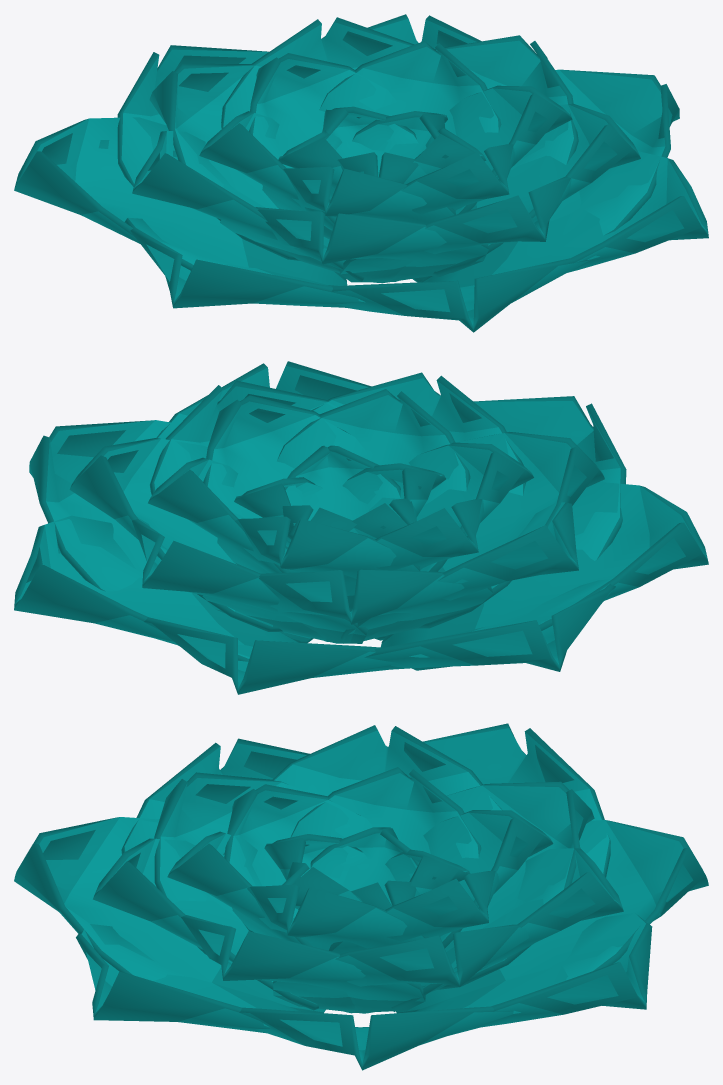
File: garden-rose-bloom-head-0-069494.glb
The picture shows the model from 3 angles, top to bottom: view 1: azimuth 30°, elevation 25°; view 2: azimuth 150°, elevation 25°; view 3: azimuth 270°, elevation 25°; orthographic projection. The views are drawn at different scales.
Parts seen in each view (by area): view 1: rose-bloom-head-0-069494; view 2: rose-bloom-head-0-069494; view 3: rose-bloom-head-0-069494.
Part boxes in pixels (x1,y1,x2,y2): rose-bloom-head-0-069494: [14, 14, 708, 332]; rose-bloom-head-0-069494: [14, 361, 708, 694]; rose-bloom-head-0-069494: [14, 723, 708, 1070].
Size of the model in its own units: 0.1476 by 0.0456 by 0.1464.
